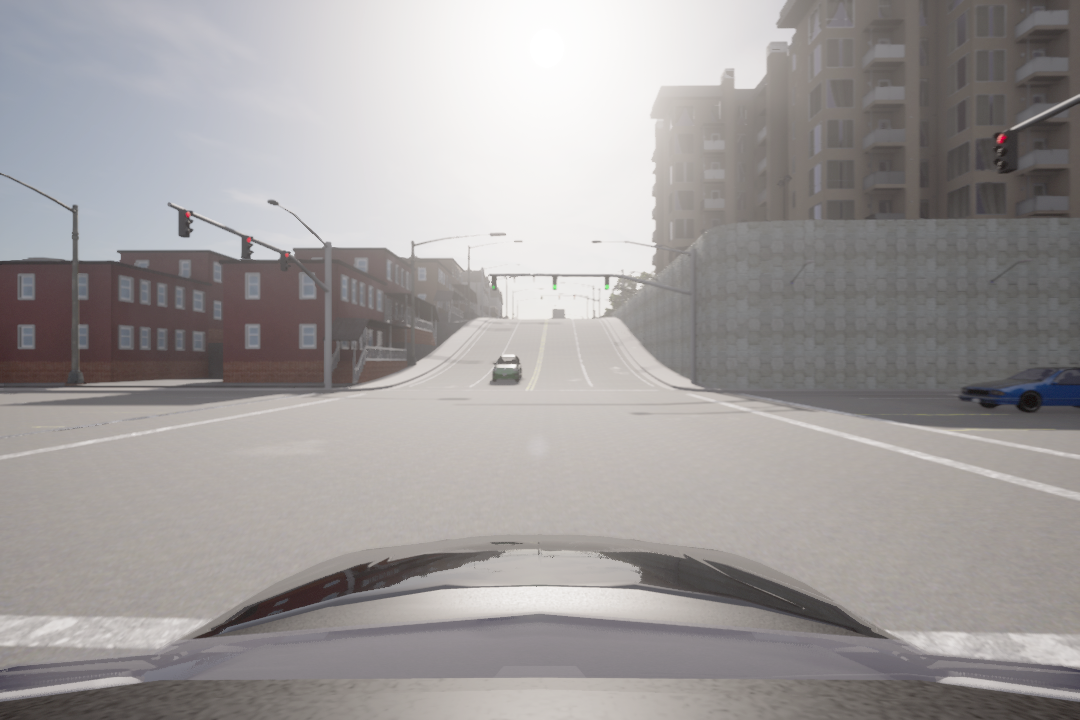TrafficLight: (991, 128, 1021, 177), (176, 207, 191, 239), (242, 234, 255, 264), (281, 251, 291, 277), (490, 273, 499, 293), (550, 275, 560, 292), (603, 274, 613, 291)
